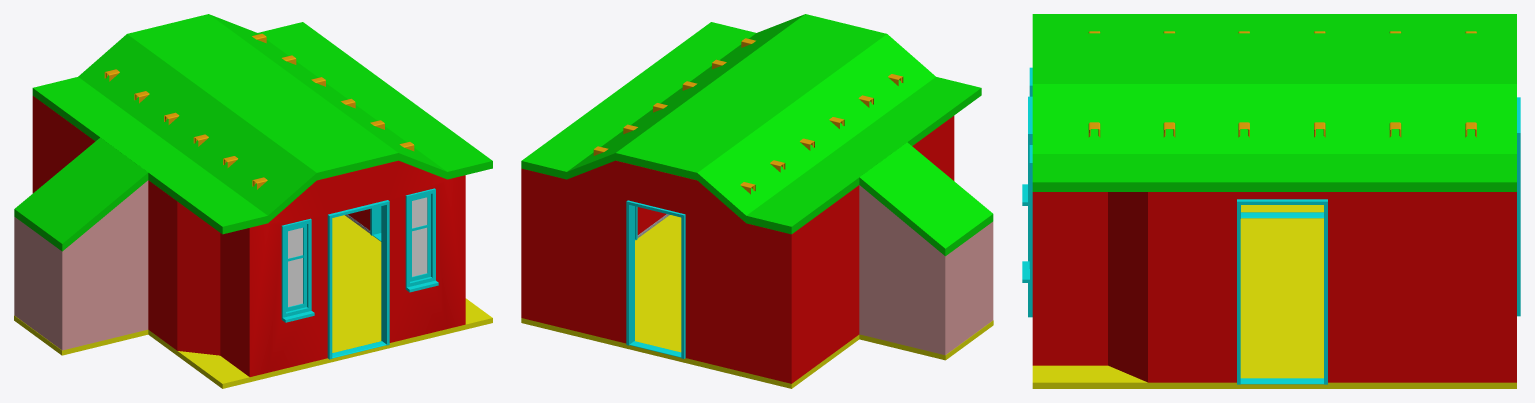
Rendered from FloorPlan528_physics.fbx.
The picture shows the model from 3 angles, left to right: view 1: azimuth 30°, elevation 25°; view 2: azimuth 150°, elevation 25°; view 3: azimuth 270°, elevation 25°; orthographic projection. The views are drawn at different scales.
Visible parts, largest first — view 1: FP528:Ceiling_4, FP528:Walls_1, FP528:Walls_2, FP528:Floor_1, FP528:Ceiling_2, FP528:DoorFrame_1, FP528:WindowFrame_2, FP528:WindowFrame_1, FP528:WindowPane_2, FP528:WindowPane_1, FP528:Floor_2; view 2: FP528:Ceiling_4, FP528:Walls_1, FP528:Walls_2, FP528:Floor_1, FP528:Ceiling_2, FP528:DoorFrame_3, FP528:Floor_2; view 3: FP528:Ceiling_4, FP528:Walls_1, FP528:Floor_1, FP528:DoorFrame_2, FP528:DoorFrame_3, FP528:WindowFrame_2, FP528:Floor_2, FP528:DoorFrame_1, FP528:Floorboard_2, FP528:Floorboard_4.
Boxes of the visible parts, x1,y1,x2,y2 form: FP528:Ceiling_4: (32, 14, 492, 234); FP528:Walls_1: (32, 96, 465, 376); FP528:Walls_2: (14, 180, 148, 350); FP528:Floor_1: (148, 215, 492, 388); FP528:Ceiling_2: (14, 137, 148, 251); FP528:DoorFrame_1: (327, 200, 389, 359); FP528:WindowFrame_2: (405, 188, 438, 292); FP528:WindowFrame_1: (281, 218, 314, 322); FP528:WindowPane_2: (412, 197, 427, 276); FP528:WindowPane_1: (288, 227, 302, 306); FP528:Floor_2: (14, 315, 148, 355); FP528:Ceiling_4: (521, 14, 981, 234); FP528:Walls_1: (521, 116, 954, 383); FP528:Walls_2: (859, 185, 993, 355); FP528:Floor_1: (521, 215, 859, 388); FP528:Ceiling_2: (859, 142, 993, 256); FP528:DoorFrame_3: (626, 200, 685, 358); FP528:Floor_2: (859, 320, 993, 360); FP528:Ceiling_4: (1032, 14, 1516, 191); FP528:Walls_1: (1032, 192, 1516, 382); FP528:Floor_1: (1032, 218, 1516, 388); FP528:DoorFrame_2: (1237, 199, 1327, 384); FP528:DoorFrame_3: (1517, 97, 1520, 316); FP528:WindowFrame_2: (1022, 145, 1032, 282); FP528:Floor_2: (1241, 205, 1323, 212); FP528:DoorFrame_1: (1028, 96, 1032, 317); FP528:Floorboard_2: (1240, 378, 1323, 384); FP528:Floorboard_4: (1241, 212, 1323, 218).
Bounding box in the file's own units: 541 × 277 × 508.
